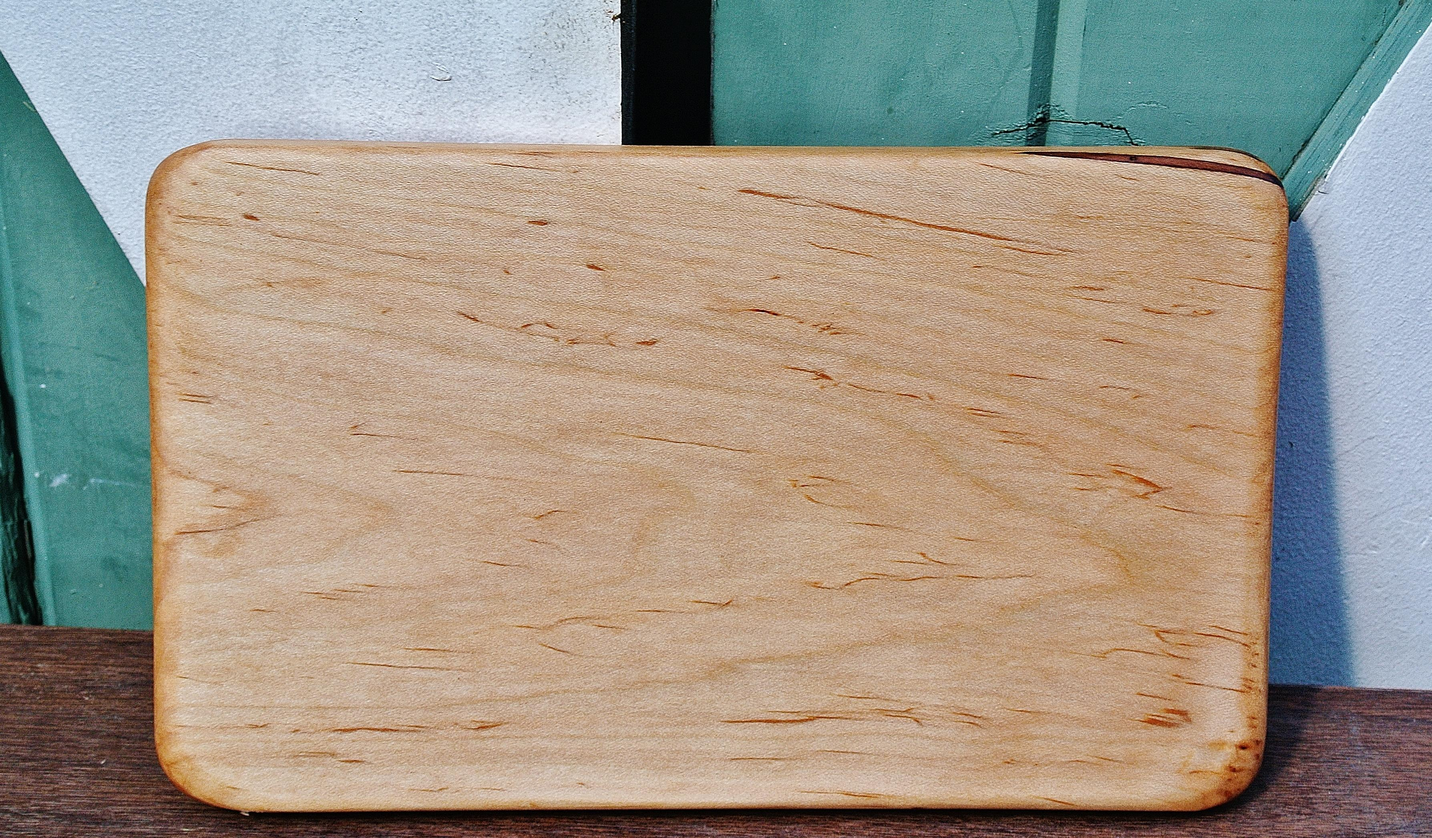gloved_hand: (119, 126, 1294, 820)
